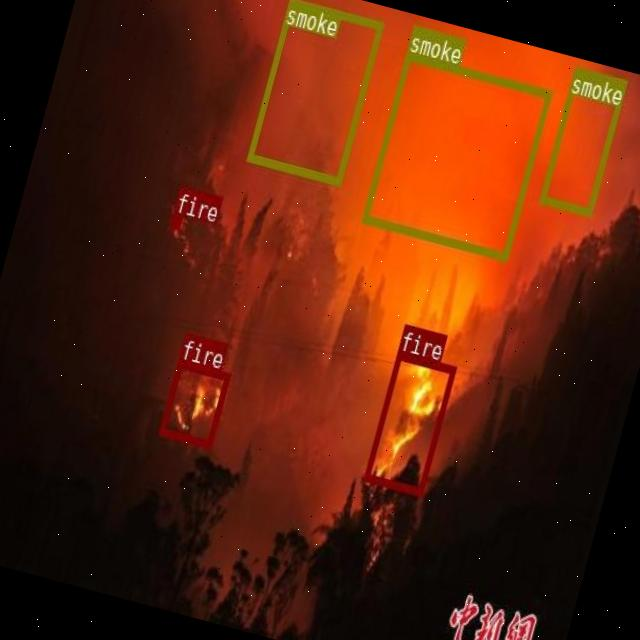fire: (362, 349, 456, 495), (158, 359, 230, 448), (168, 211, 182, 227)
smoke: (360, 50, 550, 258), (245, 0, 382, 184), (538, 65, 626, 215)
